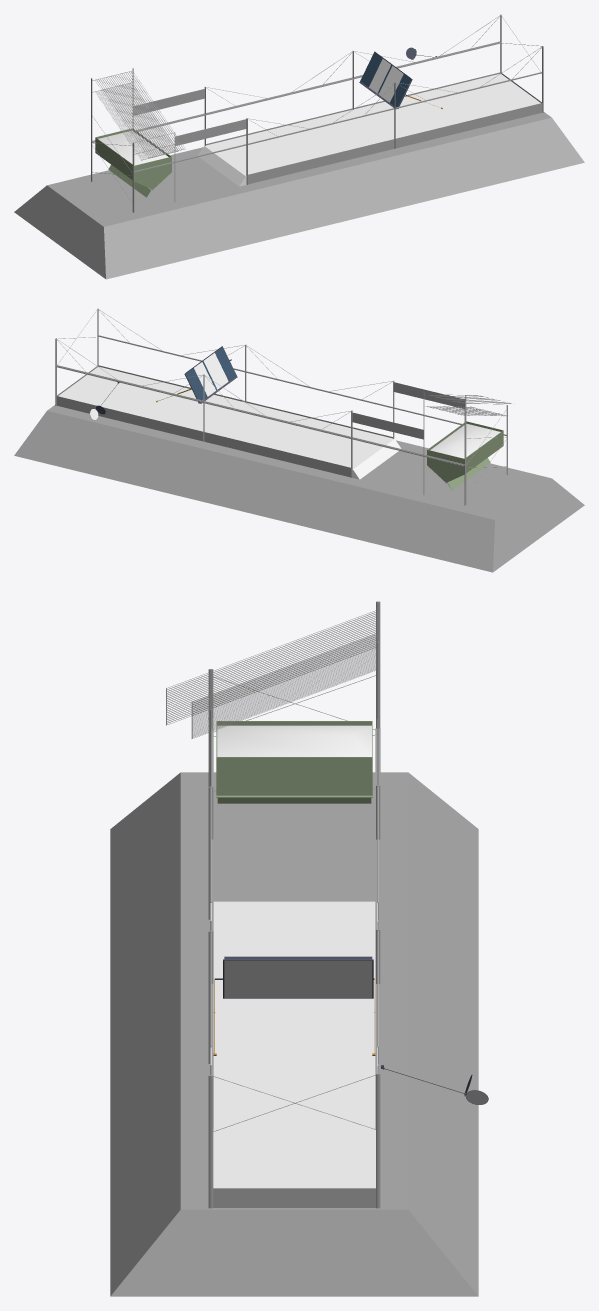
Rendered from Melt_In_Place_Station.glb.
3 views of the same model, one above another, from view 1: azimuth 30°, elevation 25°; view 2: azimuth 150°, elevation 25°; view 3: azimuth 270°, elevation 25° (orthographic). The views are drawn at different scales.
Parts seen in each view (by area): view 1: MIP_structure_M, Regolith_Bed_M, MIP-screen-bottom_M, MIP-screen-top_M, MIP-hopper_A, MIP-hopper-powder_A, MIP_square_lens_A, MIP_square_lens_shutter_N_A; view 2: MIP_structure_M, Regolith_Bed_M, MIP-hopper_A, MIP-hopper-powder_A, MIP_square_lens_A, MIP-screen-bottom_M, MIP-screen-top_M, MIP_square_lens_shutter_N_A; view 3: MIP_structure_M, Regolith_Bed_M, MIP-hopper_A, MIP_square_lens_A, MIP-screen-bottom_M, MIP-screen-top_M, MIP-hopper-powder_A.
Part boxes in pixels (x1,y1,x2,y2): MIP_structure_M: (14, 14, 584, 279); Regolith_Bed_M: (197, 74, 540, 186); MIP-screen-bottom_M: (92, 82, 178, 160); MIP-screen-top_M: (92, 70, 185, 158); MIP-hopper_A: (95, 128, 171, 197); MIP-hopper-powder_A: (98, 130, 168, 165); MIP_square_lens_A: (359, 51, 412, 109); MIP_square_lens_shutter_N_A: (360, 52, 382, 87); MIP_structure_M: (14, 308, 584, 572); Regolith_Bed_M: (58, 367, 401, 479); MIP-hopper_A: (427, 421, 503, 490); MIP-hopper-powder_A: (430, 423, 500, 458); MIP_square_lens_A: (184, 346, 237, 403); MIP-screen-bottom_M: (426, 406, 506, 416); MIP-screen-top_M: (424, 394, 511, 405); MIP_square_lens_shutter_N_A: (185, 368, 207, 402); MIP_structure_M: (110, 601, 478, 1296); Regolith_Bed_M: (210, 901, 377, 1188); MIP-hopper_A: (216, 721, 372, 803); MIP_square_lens_A: (215, 956, 374, 998); MIP-screen-bottom_M: (191, 633, 377, 738); MIP-screen-top_M: (166, 607, 378, 725); MIP-hopper-powder_A: (217, 725, 371, 756).
Bounding box in the file's own units: 97.18 × 27.01 × 33.23.
